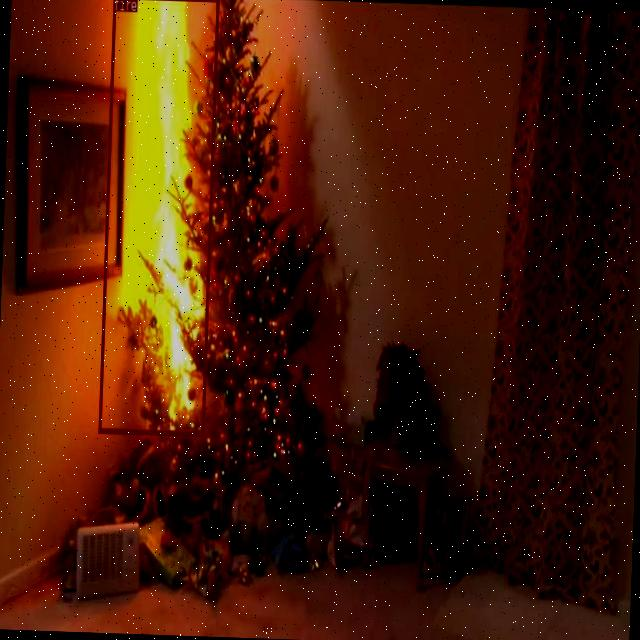fire: (97, 0, 218, 435)
